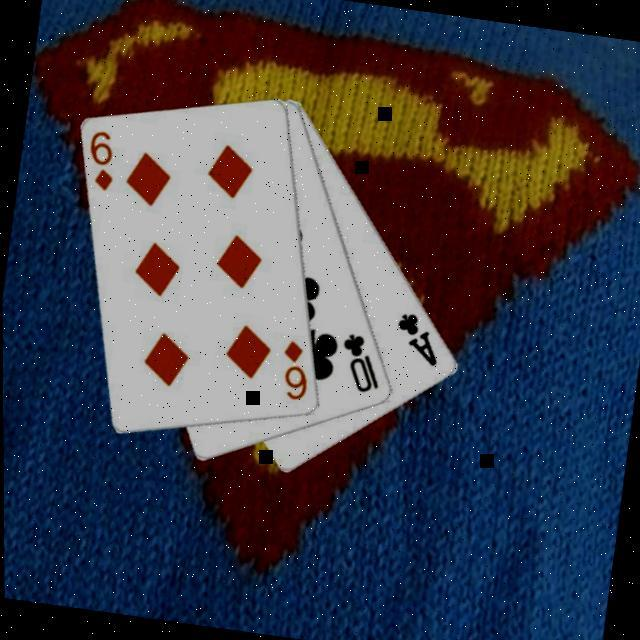10C: (333, 328, 387, 397)
6D: (273, 336, 316, 404), (80, 126, 122, 194)
AC: (388, 308, 446, 370)
